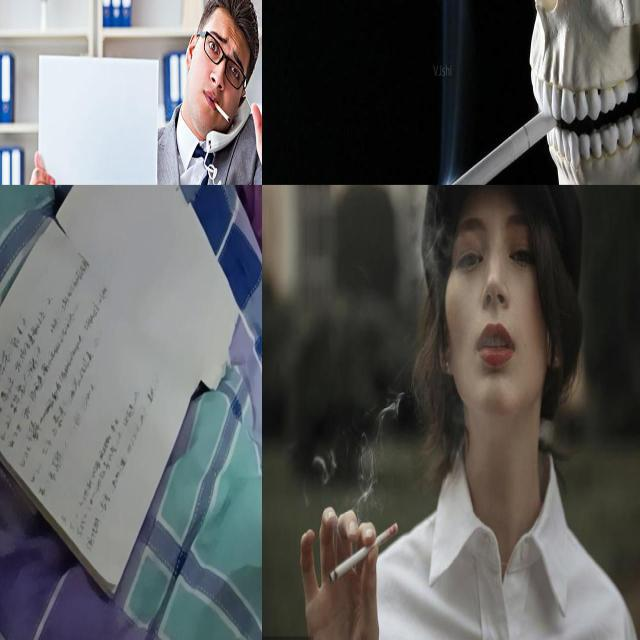smoking: (414, 108, 558, 184), (329, 522, 399, 584), (213, 101, 230, 122)
